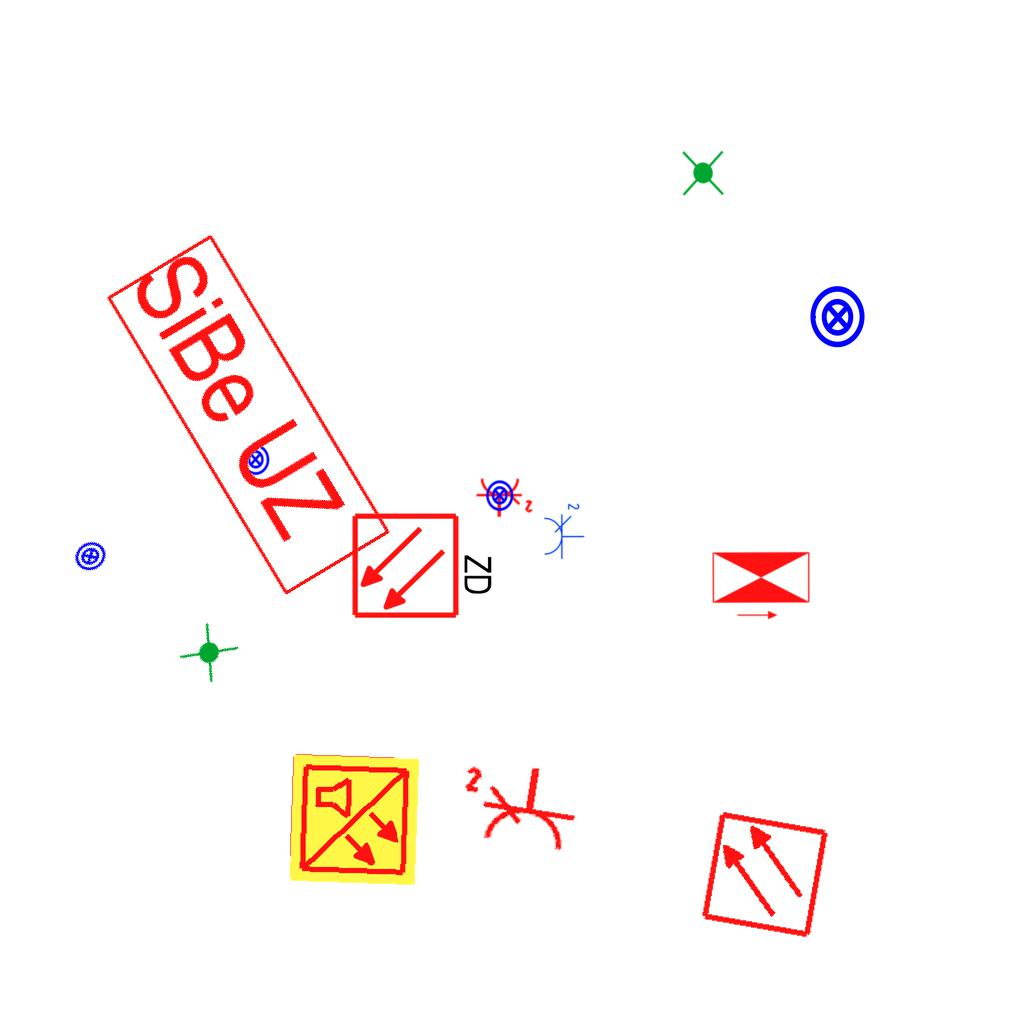Fluchtwegpiktogramm: (709, 549, 813, 622)
Notlichtbaustein_in_Allgemeinbeleuchtug_engebaut_Einbau_(1UG_und_2UG_Aufbauvaria: (173, 617, 246, 689), (677, 148, 728, 198)
OKW_Multisensormelder_(Kombination_optischer_Rauch-Kahlenmonoxid_Waerme-Melder): (285, 751, 423, 889)
RMO_Rauchmelder_optischer: (699, 809, 830, 940)
Schukosteckdose_mehrfach: (453, 751, 588, 857), (541, 500, 585, 560), (474, 476, 534, 520)
Taster_beleuchtet: (805, 284, 871, 350), (67, 533, 114, 580), (239, 443, 272, 476), (483, 479, 516, 512)
ZD_Melder_in_Zwischendecke_mit_Revisionsoeffnung_mind_40_x_40_cm: (350, 507, 499, 621)
Zentrale_Sicherheitsbeleuchtung: (100, 229, 397, 603)
